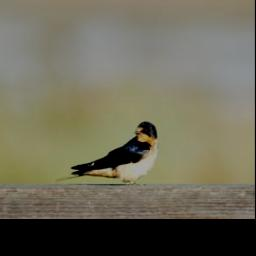Swallow: (54, 120, 159, 188)
